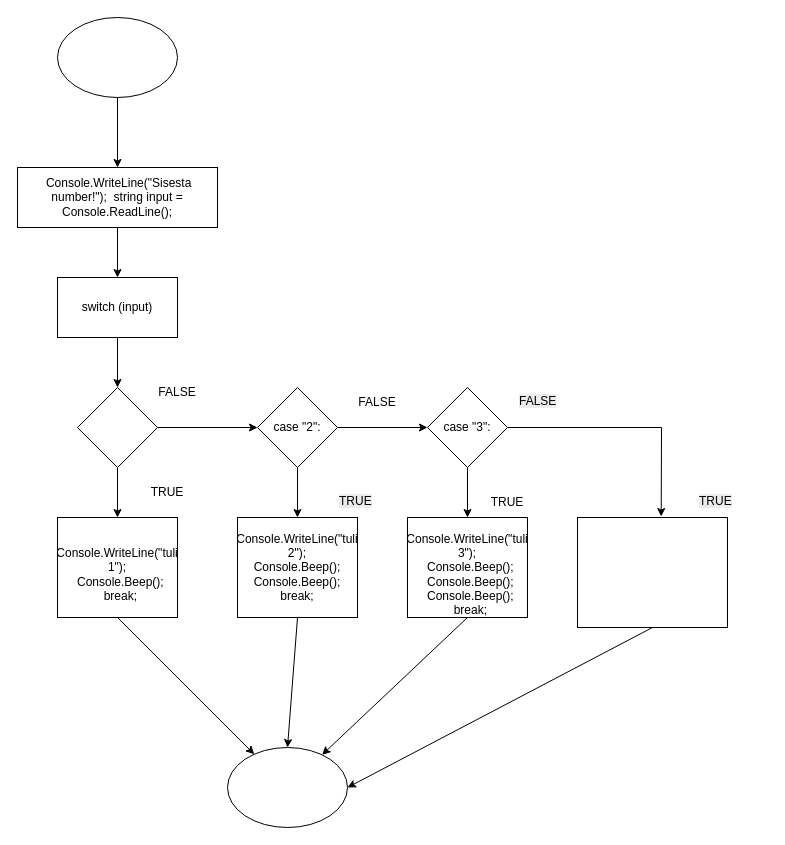
The diagram is 785 pixels wide and 845 high, and some of its shapes have lost their labels. Here are the shapes that lost their labels. From the top down, the centre of each, then its label:
(117,57): START
(117,427): case "1":
(652,572): default: Console.WriteLine("ERORR"); break;
(287,787): END
